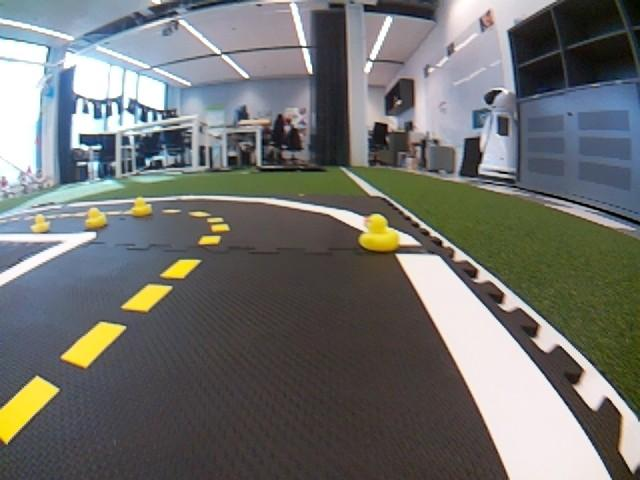Duckies: (358, 213, 400, 252), (85, 208, 107, 229), (131, 196, 152, 216), (30, 214, 50, 232)
